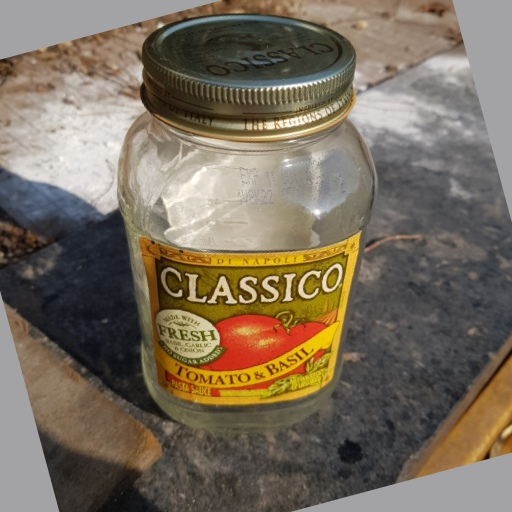Glass_5: (117, 14, 376, 425)
